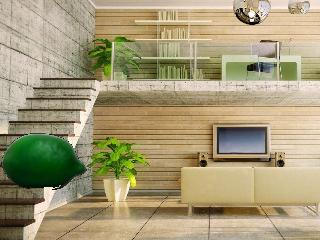lime: (2, 135, 87, 191)
